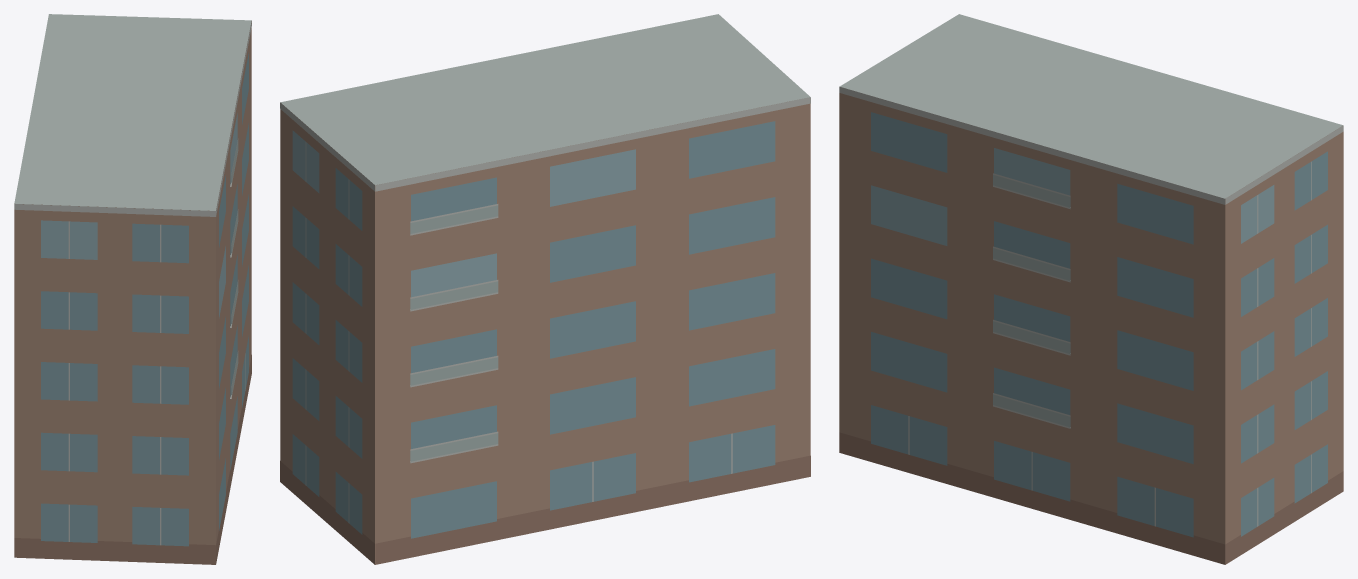
File: survey-upis-32828557.glb
3 renders of one model, left to right at view 1: azimuth 30°, elevation 25°; view 2: azimuth 150°, elevation 25°; view 3: azimuth 270°, elevation 25°, orthographic. The views are drawn at different scales.
Parts seen in each view (by area): view 1: survey-upis-32828557.tmp; view 2: survey-upis-32828557.tmp; view 3: survey-upis-32828557.tmp.
Boxes of the visible parts, box(x1,y1,x2,y2) form: survey-upis-32828557.tmp: box(14, 14, 251, 564); survey-upis-32828557.tmp: box(280, 14, 810, 564); survey-upis-32828557.tmp: box(839, 14, 1343, 564).
Size of the model in its own units: 15.54 by 14.35 by 17.92.
